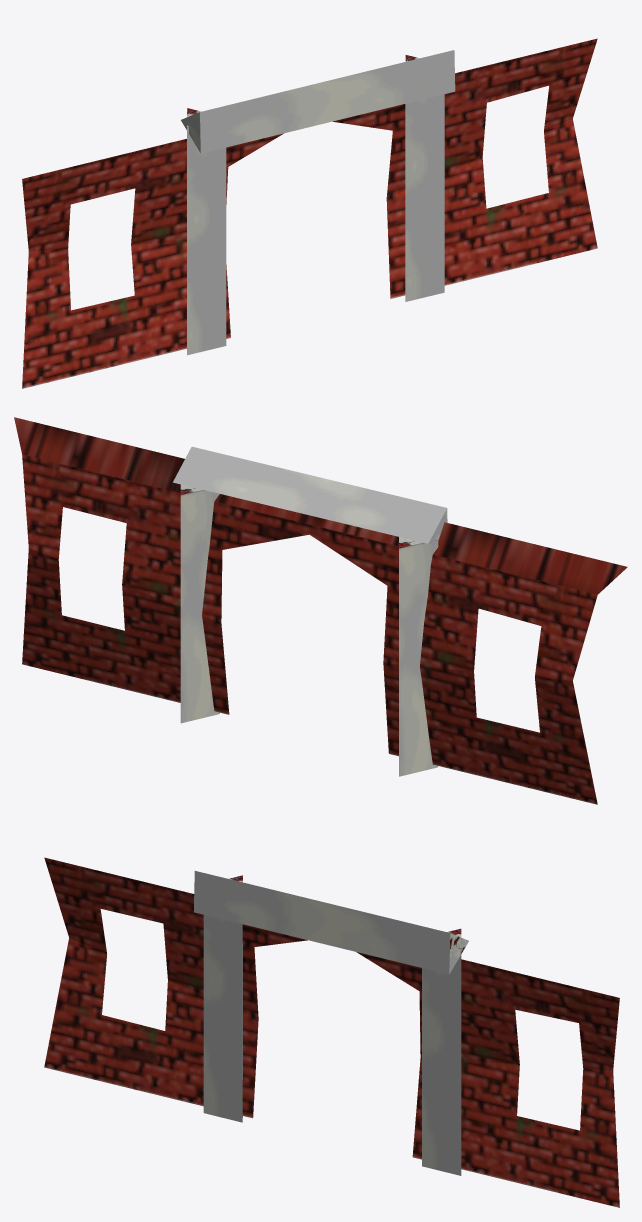
File: W_A1_fof_Verschoben3_1803.glb
The picture shows the model from 3 angles, top to bottom: view 1: azimuth 30°, elevation 25°; view 2: azimuth 150°, elevation 25°; view 3: azimuth 330°, elevation 25°; orthographic projection.
Parts seen in each view (by area): view 1: polySurfaceShape907, pCylinderShape40, pCylinderShape39, pCylinderShape38; view 2: polySurfaceShape907, polySurfaceShape1057, pCylinderShape40, pCylinderShape38, pCylinderShape39; view 3: polySurfaceShape907, pCylinderShape40, pCylinderShape38, pCylinderShape39.
Boxes of the visible parts, x1,y1,x2,y2 form: polySurfaceShape907: (22, 38, 597, 388); pCylinderShape40: (181, 50, 455, 153); pCylinderShape39: (187, 108, 226, 355); pCylinderShape38: (405, 55, 444, 301); polySurfaceShape907: (22, 454, 597, 804); polySurfaceShape1057: (14, 417, 627, 594); pCylinderShape40: (173, 446, 447, 545); pCylinderShape38: (180, 484, 219, 723); pCylinderShape39: (399, 537, 438, 776); polySurfaceShape907: (44, 857, 619, 1207); pCylinderShape40: (193, 871, 468, 974); pCylinderShape38: (422, 928, 461, 1175); pCylinderShape39: (203, 875, 242, 1122).
Bounding box in the file's own units: 1.07 × 0.4165 × 0.0944.
Materials: 5 (5 with a texture image).
